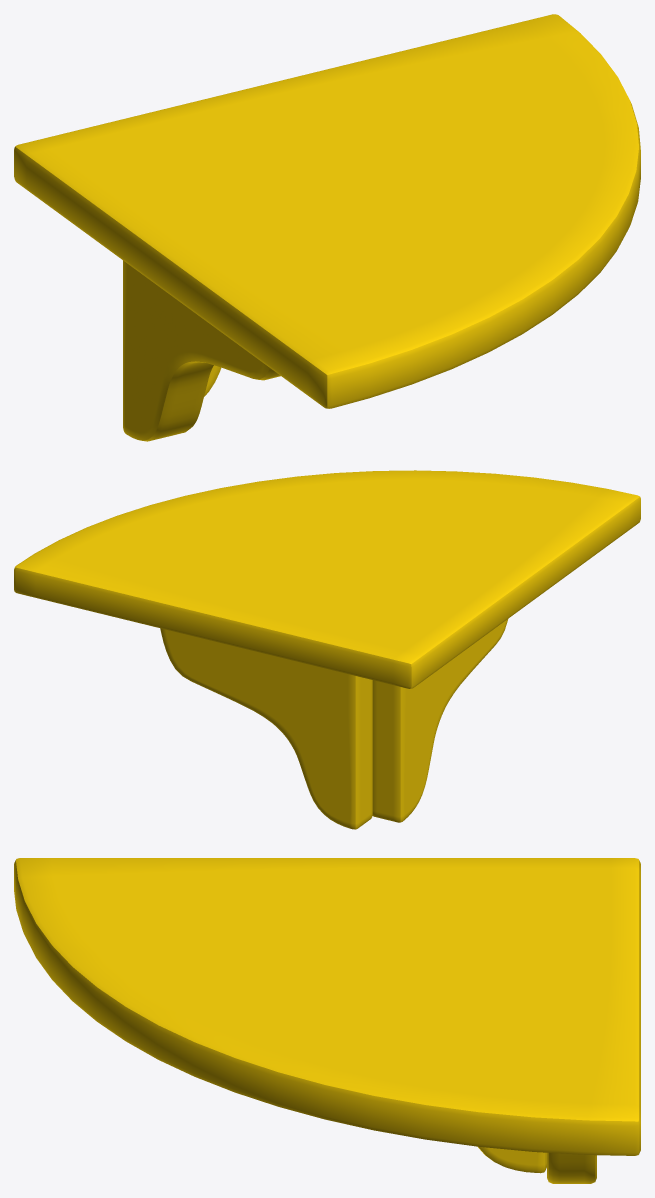
The model's file is corner.glb.
3 views of the same model, one above another, from view 1: azimuth 30°, elevation 25°; view 2: azimuth 150°, elevation 25°; view 3: azimuth 270°, elevation 25° (orthographic). The views are drawn at different scales.
Parts seen in each view (by area): view 1: Shelf_3_2, Peg_4_2; view 2: Shelf_3_2, Peg_3_3, Peg_4_2; view 3: Shelf_3_2, Peg_3_3, Peg_4_2.
Boxes of the visible parts, left/top/right/bottom form: Shelf_3_2: left=14, top=14, right=640, bottom=408; Peg_4_2: left=123, top=260, right=280, bottom=441; Shelf_3_2: left=14, top=470, right=640, bottom=688; Peg_3_3: left=160, top=628, right=372, bottom=829; Peg_4_2: left=372, top=619, right=507, bottom=822; Shelf_3_2: left=14, top=858, right=640, bottom=1155; Peg_3_3: left=547, top=1152, right=596, bottom=1183; Peg_4_2: left=478, top=1146, right=546, bottom=1173.
Size of the model in its own units: 0.9104 by 0.4306 by 0.9104.
